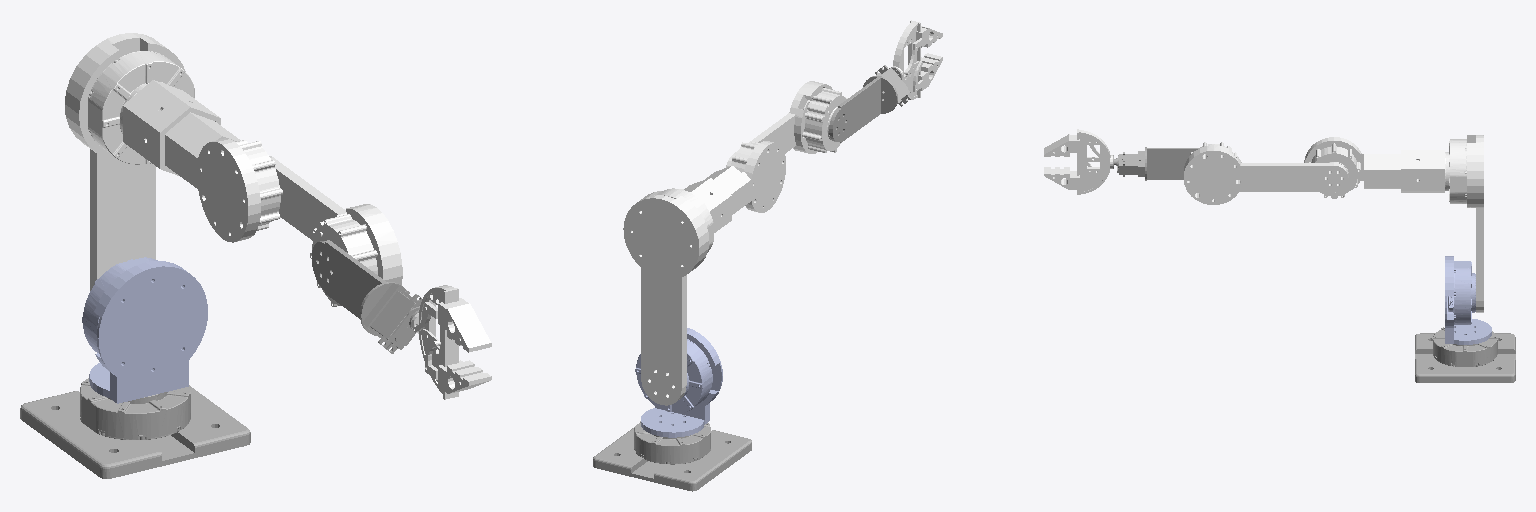
robot.urdf — arm_urdf_v3:
<?xml version="1.0" encoding="utf-8"?>
<!-- This URDF was automatically created by SolidWorks to URDF Exporter! Originally created by [author] ([email redacted]) 
     Commit Version: 1.6.0-4-g7f85cfe  Build Version: 1.6.7995.38578
     For more information, please see http://wiki.ros.org/sw_urdf_exporter -->
<robot
  name="arm_urdf_v3">
  <link
    name="base_link">
    <inertial>
      <origin
        xyz="4.4365111037367E-05 -2.88851423342618E-05 0.0158224576412873"
        rpy="0 0 0" />
      <mass
        value="0.428070776939848" />
      <inertia
        ixx="0.000575467395808682"
        ixy="-3.62606157761393E-07"
        ixz="-3.06365450994117E-08"
        iyy="0.000634963239188756"
        iyz="2.52853786044572E-08"
        izz="0.00118987402254947" />
    </inertial>
    <visual>
      <origin
        xyz="0 0 0"
        rpy="0 0 0" />
      <geometry>
        <mesh
          filename="package://arm_urdf_v3/meshes/base_link.STL" />
      </geometry>
      <material
        name="">
        <color
          rgba="0.752941176470588 0.752941176470588 0.752941176470588 1" />
      </material>
    </visual>
    <collision>
      <origin
        xyz="0 0 0"
        rpy="0 0 0" />
      <geometry>
        <mesh
          filename="package://arm_urdf_v3/meshes/base_link.STL" />
      </geometry>
    </collision>
  </link>
  <link
    name="link1">
    <inertial>
      <origin
        xyz="4.08892187102943E-05 0.00786713238407248 0.0515526869131582"
        rpy="0 0 0" />
      <mass
        value="0.302397155938424" />
      <inertia
        ixx="0.000319357688404007"
        ixy="2.52844033038264E-08"
        ixz="3.62934406750645E-07"
        iyy="0.00046043921443171"
        iyz="-3.61867290343445E-05"
        izz="0.000214881252294383" />
    </inertial>
    <visual>
      <origin
        xyz="0 0 0"
        rpy="0 0 0" />
      <geometry>
        <mesh
          filename="package://arm_urdf_v3/meshes/link1.STL" />
      </geometry>
      <material
        name="">
        <color
          rgba="0.792156862745098 0.819607843137255 0.933333333333333 1" />
      </material>
    </visual>
    <collision>
      <origin
        xyz="0 0 0"
        rpy="0 0 0" />
      <geometry>
        <mesh
          filename="package://arm_urdf_v3/meshes/link1.STL" />
      </geometry>
    </collision>
  </link>
  <joint
    name="joint1"
    type="continuous">
    <origin
      xyz="0 0 0.0535"
      rpy="0 0 -3.1416" />
    <parent
      link="base_link" />
    <child
      link="link1" />
    <axis
      xyz="0 0 1" />
  </joint>
  <link
    name="link2">
    <inertial>
      <origin
        xyz="3.92382087601364E-05 0.166144441849386 -0.0210155989568096"
        rpy="0 0 0" />
      <mass
        value="0.484000318218761" />
      <inertia
        ixx="0.00187228128564813"
        ixy="3.62934401776745E-07"
        ixz="3.0635570089194E-08"
        iyy="0.000317486588177443"
        iyz="4.06203902406869E-05"
        izz="0.00215425391780772" />
    </inertial>
    <visual>
      <origin
        xyz="0 0 0"
        rpy="0 0 0" />
      <geometry>
        <mesh
          filename="package://arm_urdf_v3/meshes/link2.STL" />
      </geometry>
      <material
        name="">
        <color
          rgba="1 1 1 1" />
      </material>
    </visual>
    <collision>
      <origin
        xyz="0 0 0"
        rpy="0 0 0" />
      <geometry>
        <mesh
          filename="package://arm_urdf_v3/meshes/link2.STL" />
      </geometry>
    </collision>
  </link>
  <joint
    name="joint2"
    type="continuous">
    <origin
      xyz="0 -0.028045 0.06"
      rpy="1.5708 0 0" />
    <parent
      link="link1" />
    <child
      link="link2" />
    <axis
      xyz="0 0 1" />
  </joint>
  <link
    name="link3">
    <inertial>
      <origin
        xyz="-0.00247177205797808 0.000120621353717376 0.0975952970486068"
        rpy="0 0 0" />
      <mass
        value="0.450958400145162" />
      <inertia
        ixx="0.000769021947058211"
        ixy="1.2903721977014E-06"
        ixz="7.53479239133331E-05"
        iyy="0.000723587694461819"
        iyz="-7.14570400737973E-06"
        izz="0.000221450454299219" />
    </inertial>
    <visual>
      <origin
        xyz="0 0 0"
        rpy="0 0 0" />
      <geometry>
        <mesh
          filename="package://arm_urdf_v3/meshes/link3.STL" />
      </geometry>
      <material
        name="">
        <color
          rgba="1 1 1 1" />
      </material>
    </visual>
    <collision>
      <origin
        xyz="0 0 0"
        rpy="0 0 0" />
      <geometry>
        <mesh
          filename="package://arm_urdf_v3/meshes/link3.STL" />
      </geometry>
    </collision>
  </link>
  <joint
    name="joint3"
    type="continuous">
    <origin
      xyz="-1.197E-05 0.19999 -0.0585"
      rpy="3.1416 0 3.1416" />
    <parent
      link="link2" />
    <child
      link="link3" />
    <axis
      xyz="0 0 1" />
  </joint>
  <link
    name="link4">
    <inertial>
      <origin
        xyz="-0.15068 0.00071055 0.020948"
        rpy="0 0 0" />
      <mass
        value="0.26247" />
      <inertia
        ixx="0.00010294"
        ixy="2.6707E-06"
        ixz="-1.2545E-05"
        iyy="0.00074713"
        iyz="-4.2043E-07"
        izz="0.00083547" />
    </inertial>
    <visual>
      <origin
        xyz="0 0 0"
        rpy="0 0 0" />
      <geometry>
        <mesh
          filename="package://arm_urdf_v3/meshes/link4.STL" />
      </geometry>
      <material
        name="">
        <color
          rgba="1 1 1 1" />
      </material>
    </visual>
    <collision>
      <origin
        xyz="0 0 0"
        rpy="0 0 0" />
      <geometry>
        <mesh
          filename="package://arm_urdf_v3/meshes/link4.STL" />
      </geometry>
    </collision>
  </link>
  <joint
    name="joint4"
    type="continuous">
    <origin
      xyz="-0.012786 0 0.165"
      rpy="0 1.5708 0" />
    <parent
      link="link3" />
    <child
      link="link4" />
    <axis
      xyz="0 0 1" />
  </joint>
  <link
    name="link5">
    <inertial>
      <origin
        xyz="0.0673808757277677 7.06982099607512E-05 -0.00269720607972216"
        rpy="0 0 0" />
      <mass
        value="0.0440584243008758" />
      <inertia
        ixx="9.89837806243164E-06"
        ixy="-1.29626761254935E-09"
        ixz="1.29627802095774E-09"
        iyy="5.12397922787605E-05"
        iyz="6.3432521895941E-07"
        izz="5.68326902273181E-05" />
    </inertial>
    <visual>
      <origin
        xyz="0 0 0"
        rpy="0 0 0" />
      <geometry>
        <mesh
          filename="package://arm_urdf_v3/meshes/link5.STL" />
      </geometry>
      <material
        name="">
        <color
          rgba="0.752941176470588 0.752941176470588 0.752941176470588 1" />
      </material>
    </visual>
    <collision>
      <origin
        xyz="0 0 0"
        rpy="0 0 0" />
      <geometry>
        <mesh
          filename="package://arm_urdf_v3/meshes/link5.STL" />
      </geometry>
    </collision>
  </link>
  <joint
    name="joint5"
    type="continuous">
    <origin
      xyz="-0.18 0.0011455 -0.0145"
      rpy="3.1416 0 3.1416" />
    <parent
      link="link4" />
    <child
      link="link5" />
    <axis
      xyz="0 0 1" />
  </joint>
  <link
    name="link6">
    <inertial>
      <origin
        xyz="0.000954780554241752 -4.23986262103708E-05 0.0485773439997857"
        rpy="0 0 0" />
      <mass
        value="0.0627089593717622" />
      <inertia
        ixx="3.87610496448152E-05"
        ixy="-3.25047896234336E-08"
        ixz="1.40339475169166E-06"
        iyy="8.16316480905236E-05"
        iyz="-6.39169869276946E-07"
        izz="4.6983313864773E-05" />
    </inertial>
    <visual>
      <origin
        xyz="0 0 0"
        rpy="0 0 0" />
      <geometry>
        <mesh
          filename="package://arm_urdf_v3/meshes/link6.STL" />
      </geometry>
      <material
        name="">
        <color
          rgba="1 1 1 1" />
      </material>
    </visual>
    <collision>
      <origin
        xyz="0 0 0"
        rpy="0 0 0" />
      <geometry>
        <mesh
          filename="package://arm_urdf_v3/meshes/link6.STL" />
      </geometry>
    </collision>
  </link>
  <joint
    name="joint6"
    type="continuous">
    <origin
      xyz="0.15485 0.0062933 -0.0097125"
      rpy="-1.5708 0 -1.5708" />
    <parent
      link="link5" />
    <child
      link="link6" />
    <axis
      xyz="0 0 1" />
  </joint>
</robot>

--- Facts derived from the render (not from the file) ---
3 views of the same robot in one strip: view 1: azimuth 30°, elevation 25°; view 2: azimuth 150°, elevation 25°; view 3: azimuth 270°, elevation 25° (orthographic).
Robot: arm_urdf_v3 — 7 links, 6 joints (6 continuous); root link base_link; default pose: all joints at 0.
Visible links, largest first — view 1: link2, link1, base_link, link3, link4, link5, link6; view 2: link2, base_link, link3, link1, link4, link5, link6; view 3: link4, link3, base_link, link2, link1, link6, link5.
Link boxes in pixels (x1,y1,x2,y2): link2: (65,33,194,290); link1: (82,257,207,403); base_link: (20,378,250,478); link3: (123,80,282,242); link4: (269,156,402,306); link5: (312,240,421,353); link6: (411,285,491,399); link2: (623,188,713,405); base_link: (593,421,751,491); link3: (684,141,785,232); link1: (635,328,722,437); link4: (726,81,847,167); link5: (829,65,910,142); link6: (893,20,942,99); link4: (1184,142,1348,204); link3: (1304,137,1444,198); base_link: (1415,327,1515,382); link2: (1445,135,1483,312); link1: (1445,256,1491,344); link6: (1044,129,1112,194); link5: (1113,147,1198,180).
Bounding box of the posed robot: 0.15 × 0.7028 × 0.3724 m (x, y, z).
Meshes: 7 distinct files referenced, 7 mesh visuals loaded (7 binary STL).